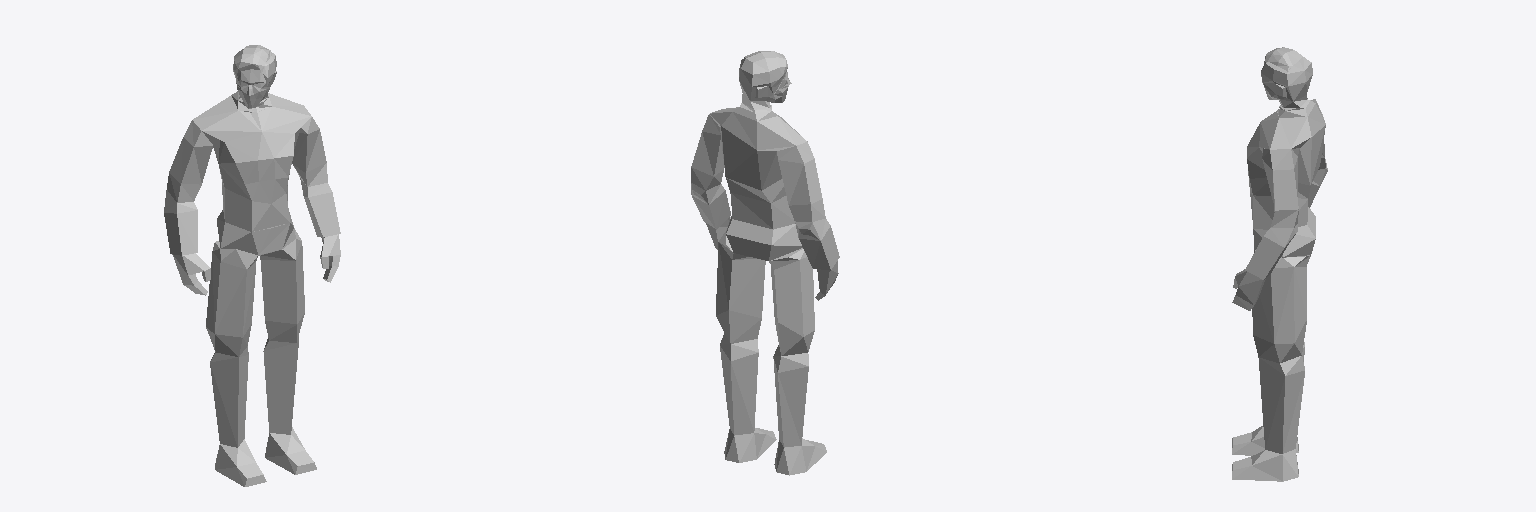
The model's file is Manuel103.obj.
3 renders of one model, left to right at view 1: azimuth 30°, elevation 25°; view 2: azimuth 150°, elevation 25°; view 3: azimuth 270°, elevation 25°, orthographic.
Visible parts, largest first — view 1: leon; view 2: leon; view 3: leon.
Part boxes in pixels (left/top/right/bottom): leon: left=164, top=45, right=340, bottom=486; leon: left=691, top=51, right=839, bottom=475; leon: left=1232, top=47, right=1327, bottom=481.
Bounding box in the file's own units: 4.61 × 12.19 × 2.59.